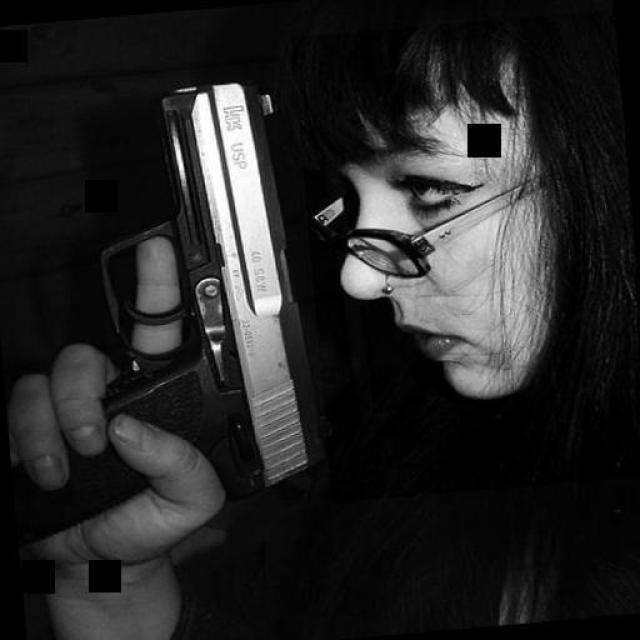gun: (0, 72, 332, 545)
